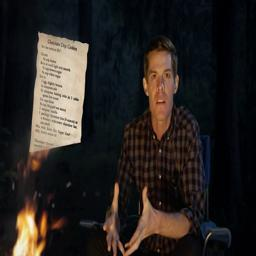fire: (13, 197, 47, 256)
